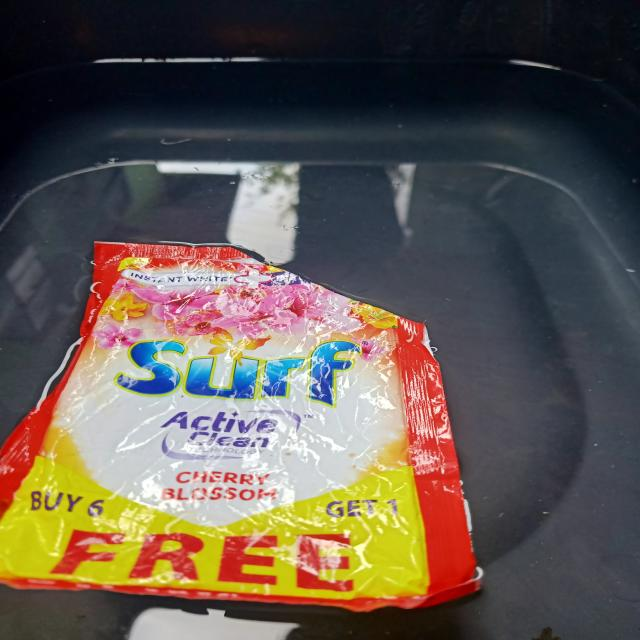Plastic Wrapper: (0, 215, 516, 622)
